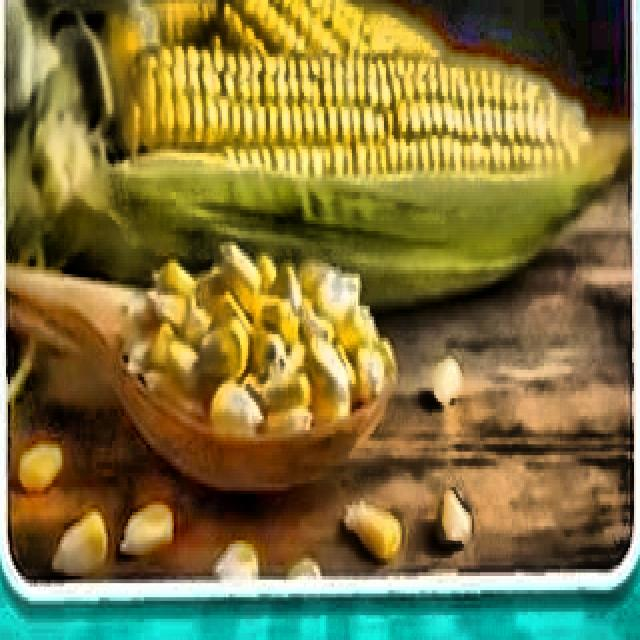Vegetable: (37, 6, 615, 550)
